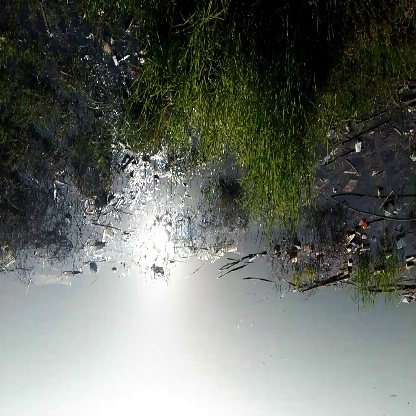branch: (331, 185, 416, 227)
